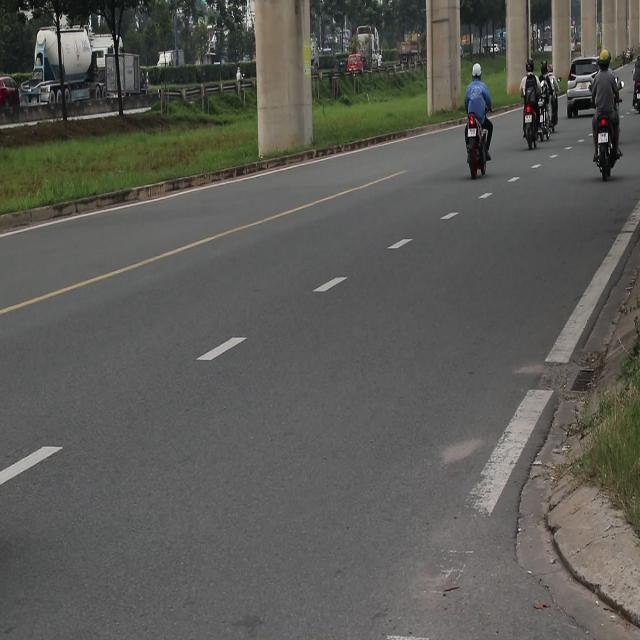car: (564, 56, 600, 118), (1, 76, 21, 108)
motorbike: (465, 112, 497, 174), (592, 120, 620, 182), (519, 104, 538, 153), (627, 68, 640, 125), (543, 92, 562, 125), (538, 104, 549, 141)
truck: (107, 42, 156, 114), (347, 32, 379, 84)
